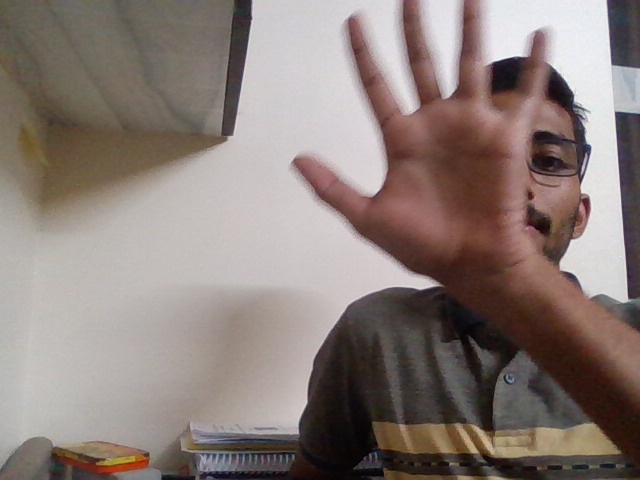Hello: (276, 1, 568, 303)
